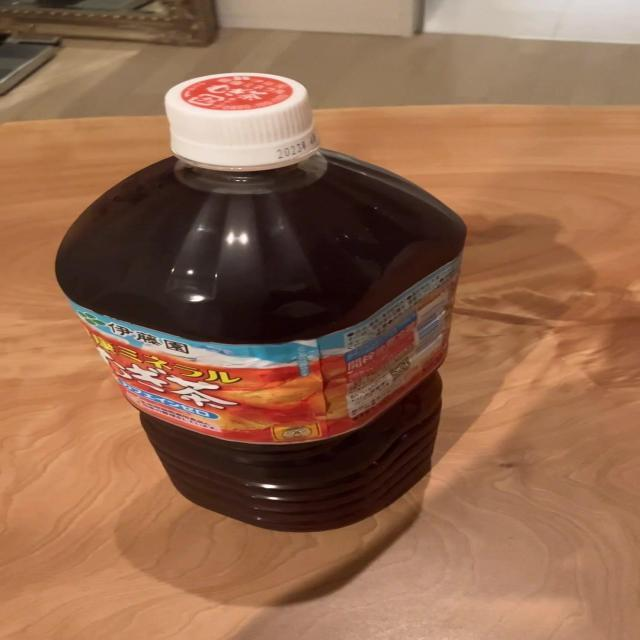good: (49, 70, 469, 536)
